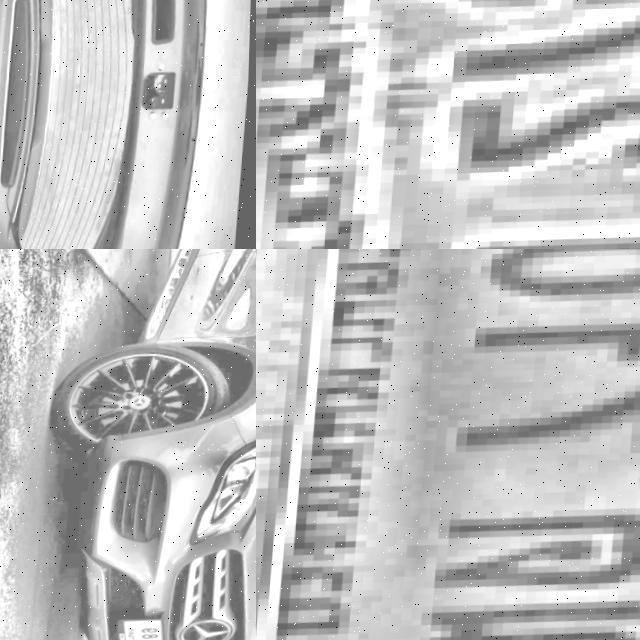license-plate: (256, 249, 640, 640), (256, 0, 640, 249), (116, 615, 175, 640)
